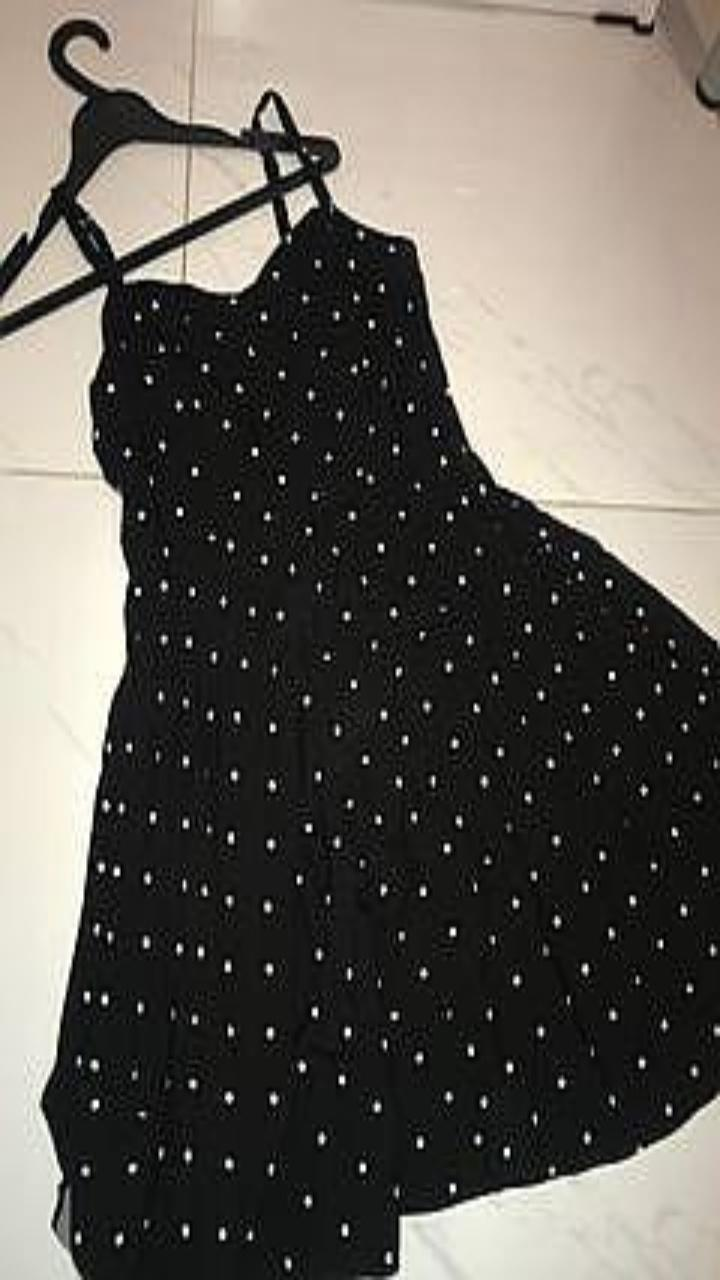Dresses: (42, 93, 719, 1279)
